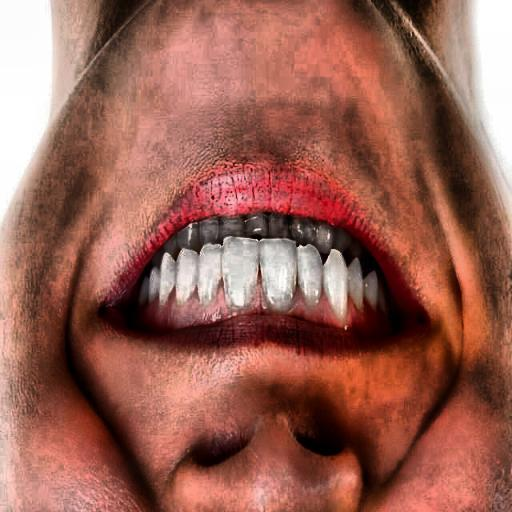Healthy: (156, 226, 417, 338)
